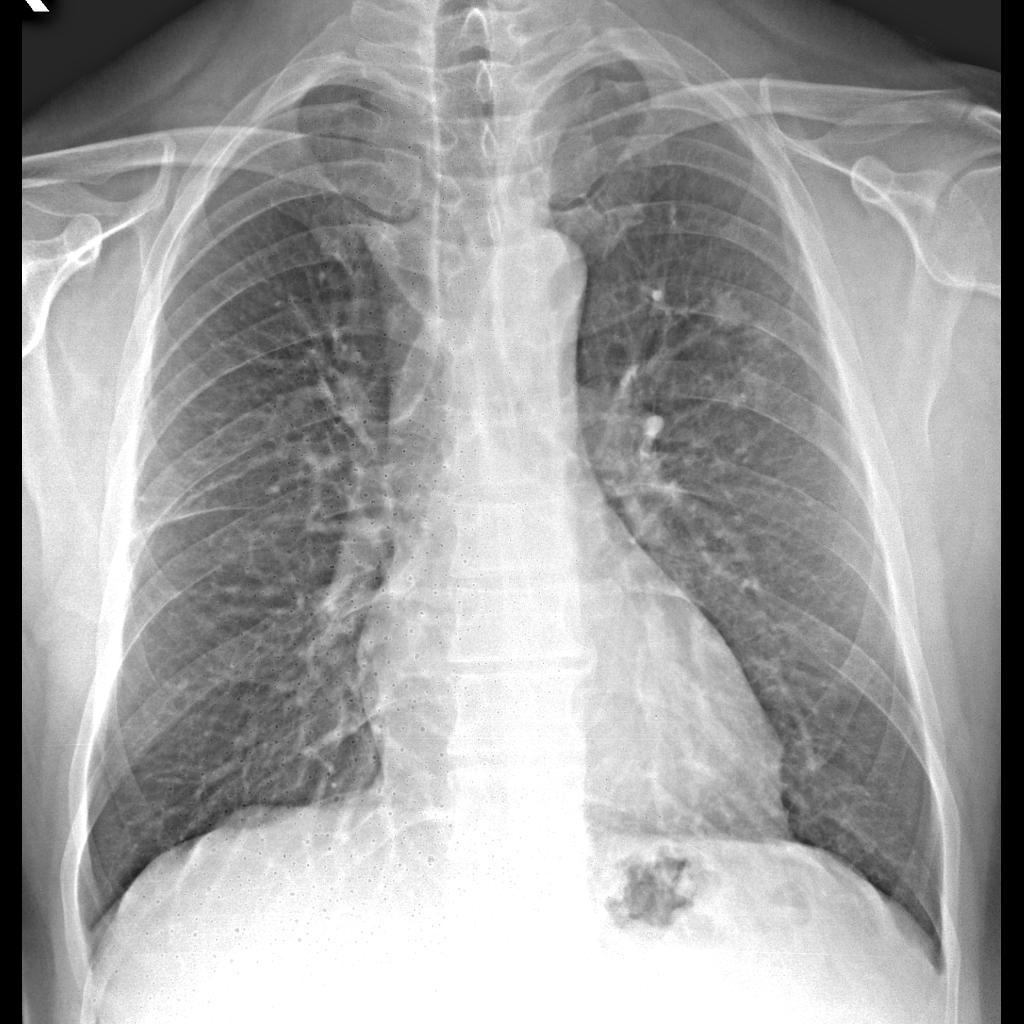Nodule: (694, 282, 765, 343)
